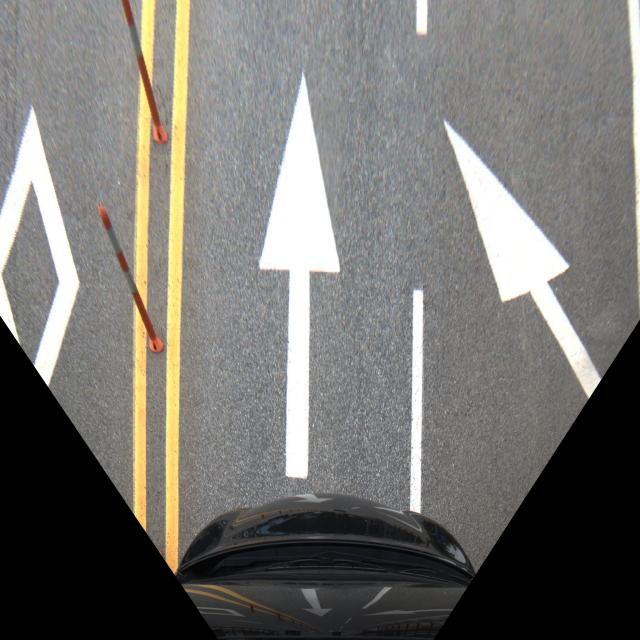diamond: (498, 227, 640, 531)
